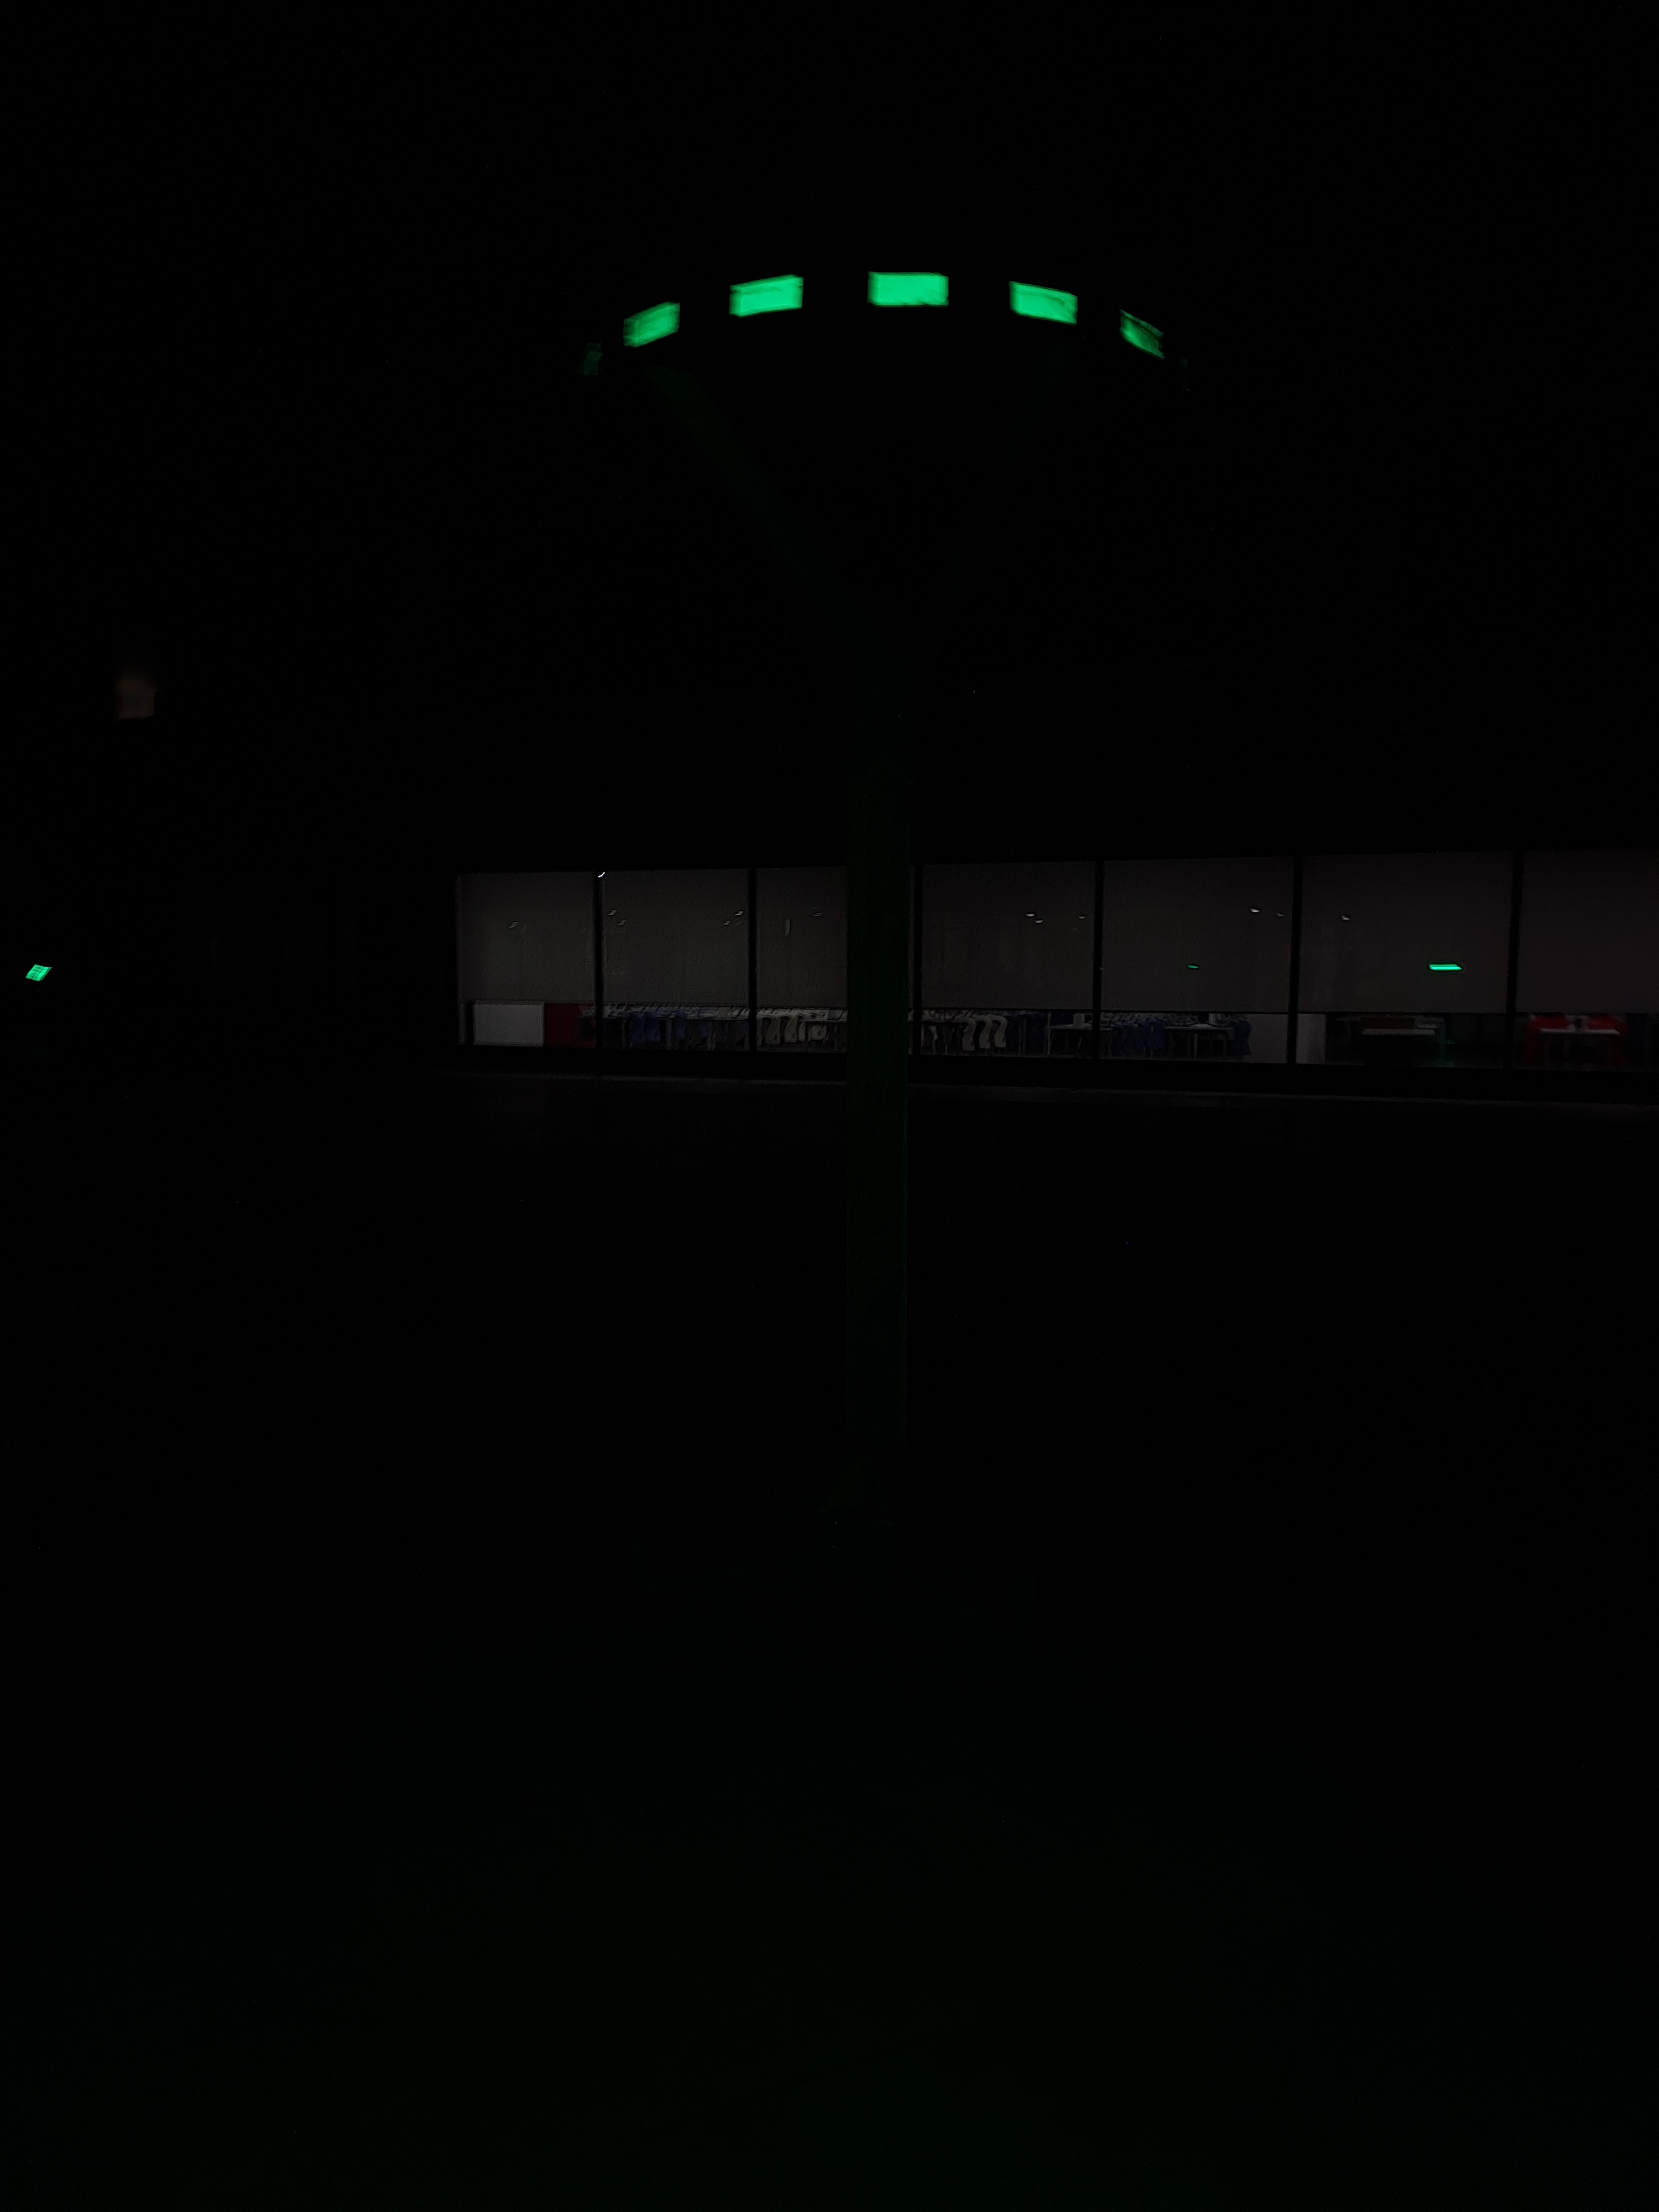hoop: (615, 272, 1171, 368)
